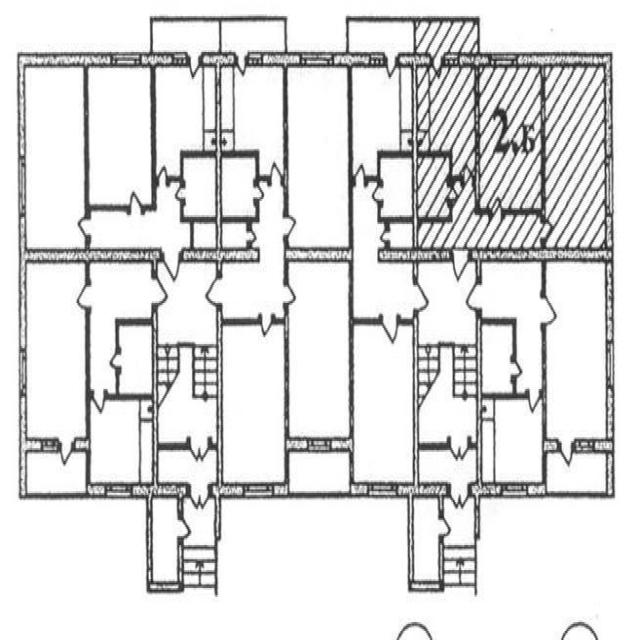Bathrooms: (120, 327, 151, 392), (483, 327, 512, 392), (223, 159, 255, 216), (418, 159, 449, 216), (381, 160, 412, 216), (184, 160, 215, 216), (223, 225, 246, 248), (390, 225, 412, 248), (195, 224, 215, 247)
Corridors: (223, 181, 284, 317), (419, 183, 540, 247), (354, 184, 412, 316), (91, 264, 151, 391), (482, 263, 541, 392), (92, 183, 190, 247), (547, 454, 606, 491), (290, 454, 349, 490), (28, 454, 85, 491), (349, 22, 413, 51), (153, 22, 218, 50), (154, 499, 176, 581), (414, 500, 436, 582), (416, 23, 477, 52), (222, 22, 283, 51), (159, 452, 216, 483), (419, 451, 476, 482)
Doors: (162, 247, 180, 285), (151, 276, 170, 311), (451, 249, 470, 284), (188, 483, 210, 513), (448, 483, 470, 513), (204, 277, 223, 309), (412, 282, 431, 314), (540, 296, 558, 329), (464, 282, 483, 313), (448, 435, 469, 463), (190, 436, 209, 466), (382, 316, 400, 346), (559, 439, 574, 470), (74, 284, 91, 311), (59, 439, 73, 470), (128, 188, 143, 216), (527, 389, 541, 418), (177, 517, 194, 540), (93, 389, 106, 419), (269, 158, 282, 188), (75, 215, 92, 237), (283, 283, 299, 306), (283, 214, 298, 238), (189, 51, 201, 81), (540, 219, 555, 243), (386, 52, 398, 81), (432, 52, 444, 81), (438, 517, 453, 539), (460, 159, 473, 184), (354, 161, 366, 188), (260, 316, 272, 340), (491, 194, 503, 218), (157, 162, 168, 188), (107, 351, 121, 371), (237, 50, 247, 78), (370, 185, 384, 205), (510, 360, 524, 379), (173, 185, 187, 203), (449, 188, 460, 209), (245, 229, 259, 245), (378, 228, 392, 244), (253, 185, 266, 202)
LBwalls: (18, 218, 162, 349), (471, 217, 614, 339), (518, 51, 613, 153), (16, 52, 110, 155), (19, 396, 42, 500), (597, 391, 616, 499), (181, 247, 260, 261), (378, 248, 452, 262), (284, 247, 353, 262), (134, 482, 187, 497), (399, 482, 448, 496), (202, 52, 236, 67), (333, 52, 369, 66), (264, 52, 299, 66), (398, 52, 431, 66), (210, 485, 242, 498), (142, 53, 173, 66), (461, 53, 489, 67), (471, 483, 499, 497), (285, 437, 307, 453), (332, 437, 354, 452), (86, 483, 106, 497), (529, 484, 547, 497), (350, 484, 367, 497), (544, 439, 558, 454), (75, 437, 90, 451), (275, 483, 289, 497)
Offices: (288, 69, 348, 247), (546, 68, 605, 246), (26, 68, 83, 248), (289, 263, 348, 435), (547, 264, 605, 438), (28, 264, 85, 436), (223, 328, 284, 482), (356, 327, 412, 481), (89, 69, 151, 204), (481, 69, 541, 207), (222, 68, 283, 174), (353, 69, 412, 175), (417, 68, 475, 175), (157, 69, 215, 175), (91, 402, 151, 481), (482, 402, 540, 481)
Stairs: (158, 263, 216, 442), (419, 263, 476, 440), (445, 498, 475, 595), (184, 499, 215, 589)
Walls: (169, 67, 271, 247), (365, 67, 460, 248), (104, 303, 190, 481), (469, 308, 527, 482), (209, 302, 262, 484), (502, 67, 546, 219), (84, 68, 128, 216), (348, 262, 382, 436), (150, 16, 287, 52), (345, 16, 480, 52), (146, 499, 184, 595), (408, 499, 445, 594), (399, 313, 419, 482), (472, 68, 491, 216), (142, 67, 157, 217), (541, 328, 547, 483), (348, 67, 353, 246), (283, 68, 289, 215), (86, 306, 90, 437), (290, 491, 349, 499), (548, 491, 606, 499), (28, 492, 85, 500), (474, 498, 480, 541), (215, 500, 221, 540), (540, 262, 546, 296), (284, 453, 289, 484), (349, 453, 354, 484), (475, 263, 482, 285), (86, 452, 91, 482), (177, 498, 183, 519), (438, 496, 444, 517), (412, 264, 418, 284), (216, 263, 223, 280), (85, 264, 90, 287), (284, 263, 289, 286), (151, 262, 157, 280), (284, 235, 289, 246), (246, 240, 252, 247), (540, 242, 547, 247), (384, 243, 391, 248), (91, 389, 94, 400)
Windows: (18, 156, 27, 218), (300, 52, 334, 67), (243, 482, 274, 498), (605, 155, 613, 217), (368, 482, 398, 497), (110, 53, 142, 67), (489, 52, 517, 67), (106, 482, 132, 498), (500, 482, 527, 497), (307, 437, 331, 453), (606, 341, 614, 389), (19, 350, 27, 396), (575, 438, 596, 454), (42, 438, 58, 453), (247, 51, 263, 66), (445, 52, 460, 67), (370, 53, 385, 68), (173, 52, 188, 67)
